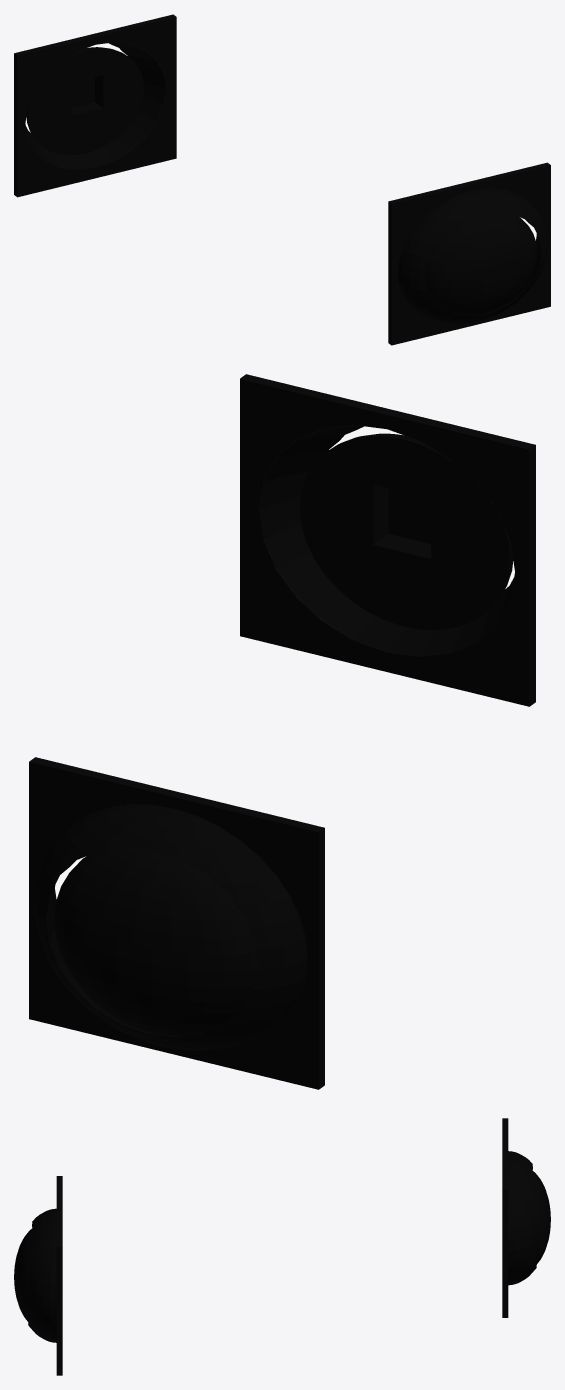
File: LeguLeteron_Botton.fbx
The picture shows the model from 3 angles, top to bottom: view 1: azimuth 30°, elevation 25°; view 2: azimuth 150°, elevation 25°; view 3: azimuth 270°, elevation 25°; orthographic projection. The views are drawn at different scales.
Parts seen in each view (by area): view 1: node_id820, node_id812, node_id814, node_id810; view 2: node_id812, node_id820, node_id810, node_id814; view 3: node_id812, node_id820, node_id810, node_id814.
Part boxes in pixels (x1,y1,x2,y2): node_id820: [388, 162, 550, 345]; node_id812: [14, 14, 176, 197]; node_id814: [26, 47, 143, 155]; node_id810: [425, 211, 537, 316]; node_id812: [29, 757, 324, 1089]; node_id820: [240, 374, 535, 706]; node_id810: [299, 433, 513, 629]; node_id814: [54, 846, 258, 1036]; node_id812: [502, 1118, 536, 1317]; node_id820: [28, 1176, 62, 1375]; node_id810: [14, 1229, 31, 1321]; node_id814: [533, 1171, 550, 1263].
Size of the model in its own units: 0.6853 by 0.322 by 1.21.
Materials: 2 (2 with a texture image).
